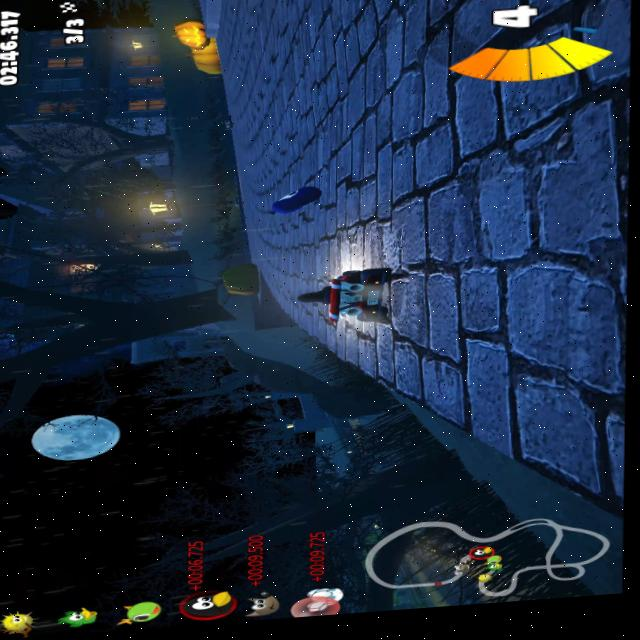nitro: (267, 179, 320, 220)
player_kart: (301, 258, 388, 330)
